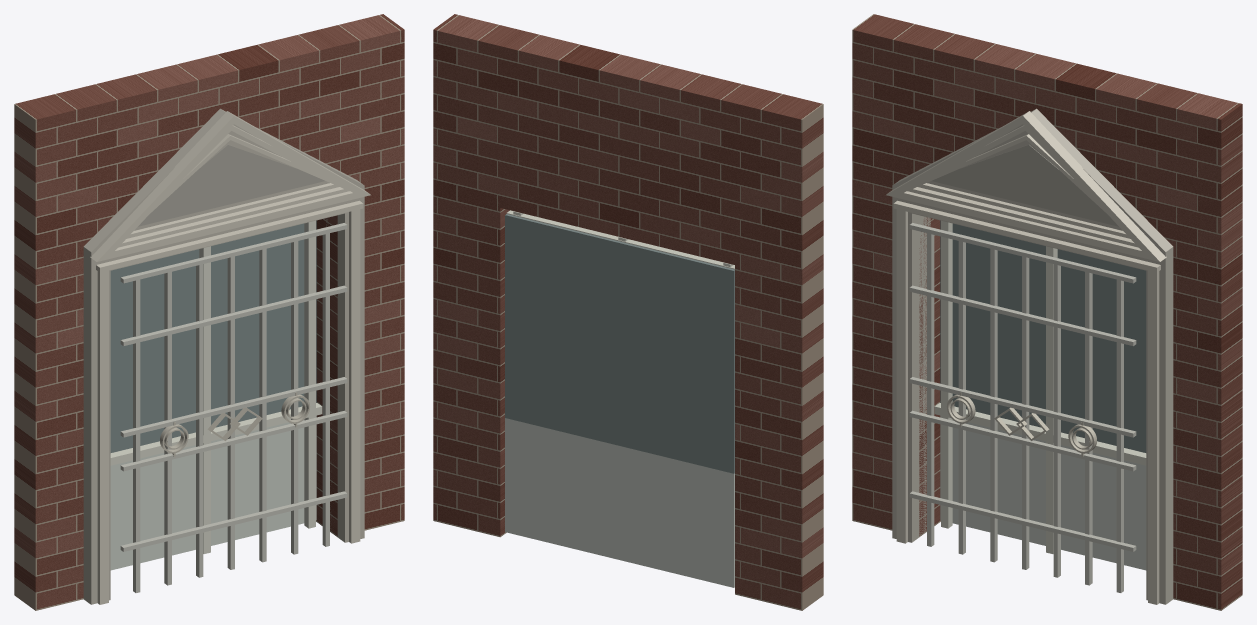
Rendered from chukang-li-triangular-window-and-diamond-grille-near.glb.
The picture shows the model from 3 angles, left to right: view 1: azimuth 30°, elevation 25°; view 2: azimuth 150°, elevation 25°; view 3: azimuth 330°, elevation 25°; orthographic projection.
Parts seen in each view (by area): view 1: 储康里红砖墙三角窗楣与双菱铁栏; view 2: 储康里红砖墙三角窗楣与双菱铁栏; view 3: 储康里红砖墙三角窗楣与双菱铁栏.
Boxes of the visible parts, bbox=[...] form: 储康里红砖墙三角窗楣与双菱铁栏: bbox=[14, 14, 404, 610]; 储康里红砖墙三角窗楣与双菱铁栏: bbox=[433, 14, 823, 610]; 储康里红砖墙三角窗楣与双菱铁栏: bbox=[852, 14, 1242, 610].
Size of the model in its own units: 1.71 by 2.18 by 0.304.
9 materials, 1 textured.
